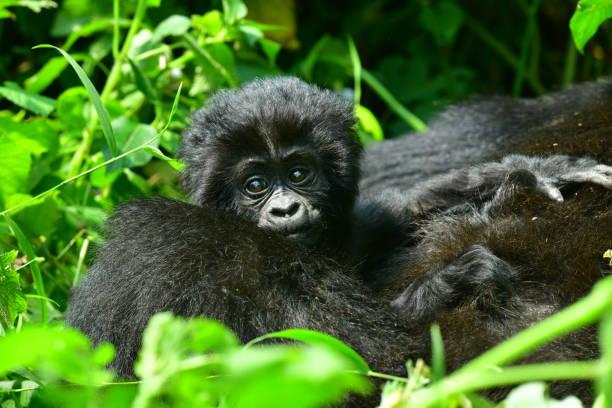goriile_montagne: (162, 79, 408, 333)
